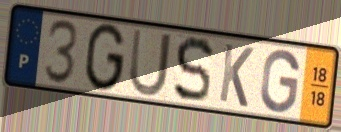3: (43, 18, 81, 86)
G: (82, 21, 128, 94), (258, 47, 302, 116)
K: (216, 40, 256, 110)
S: (171, 35, 216, 106)
U: (127, 26, 174, 99)
